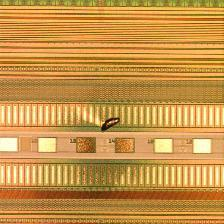PIQ PARTICLE: (100, 115, 123, 133)
